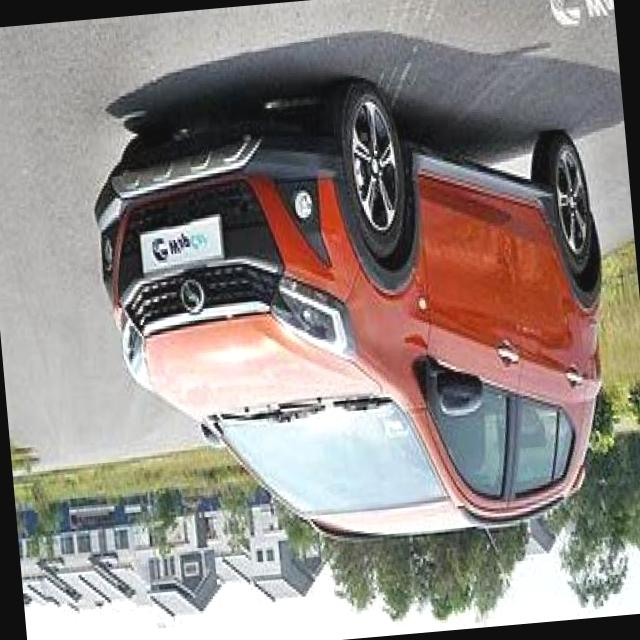PeroduaAxia: (82, 58, 626, 564)
